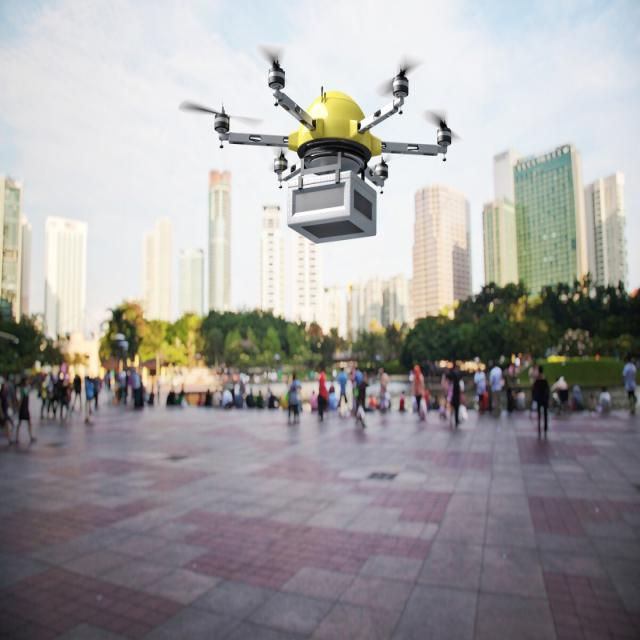drones: (172, 24, 478, 252)
